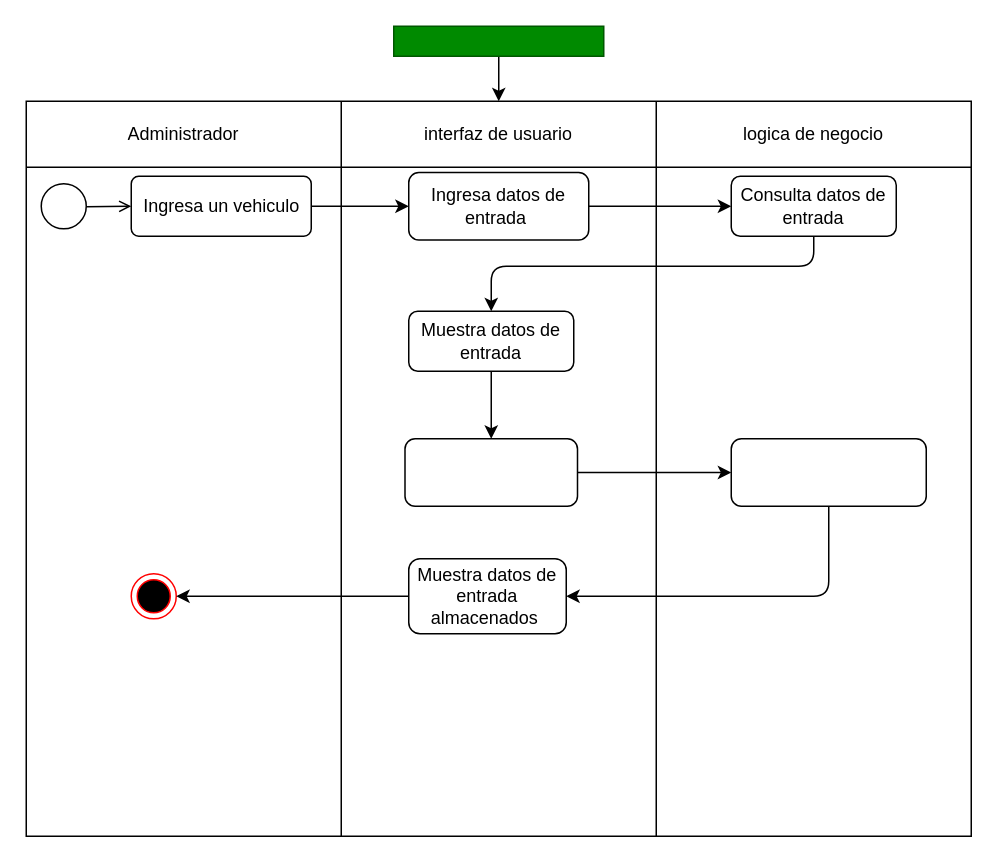
This 998x863 diagram has some shape labels left out. Each missing label, with the centre of its shape:
Elimina datos de entrada seleccionado: point 828,471
ELIMINAR VEHICULO: point 498,40
Selecciona eliminar y confirma datos de entrada: point 491,471
